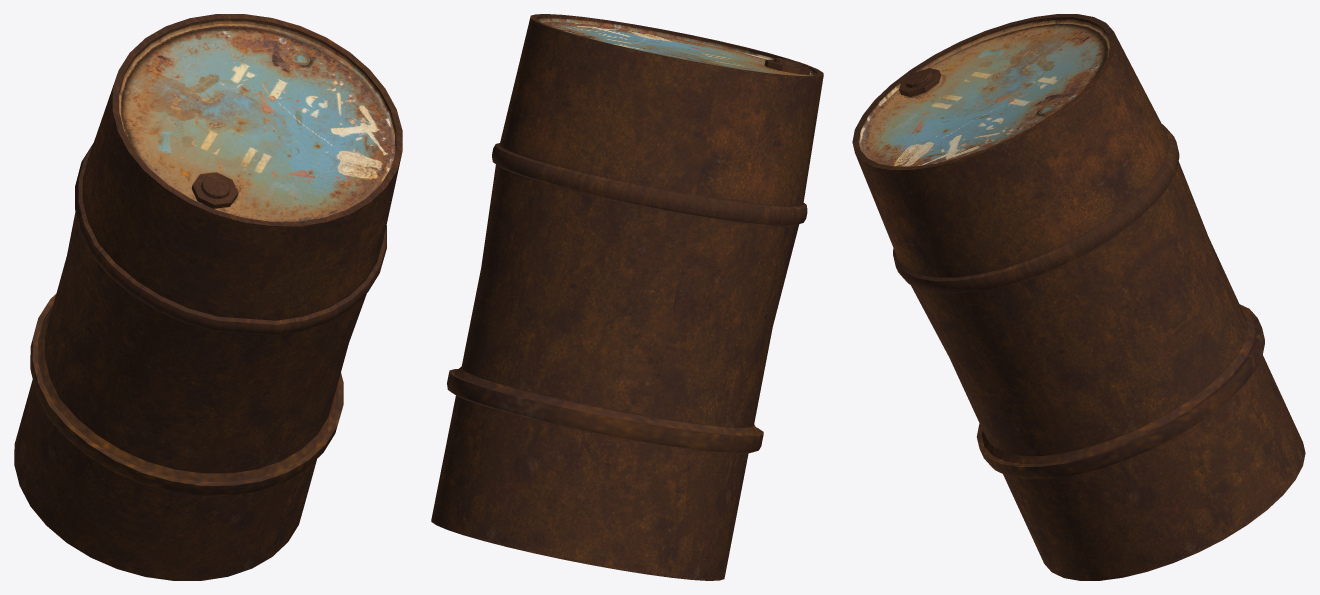
Rendered from BARREL3.fbx.
The picture shows the model from 3 angles, left to right: view 1: azimuth 30°, elevation 25°; view 2: azimuth 150°, elevation 25°; view 3: azimuth 270°, elevation 25°; orthographic projection. The views are drawn at different scales.
Visible parts, largest first — view 1: BARREL; view 2: BARREL; view 3: BARREL.
Boxes of the visible parts, x1,y1,x2,y2 form: BARREL: (14, 14, 402, 580); BARREL: (431, 14, 823, 580); BARREL: (852, 14, 1305, 580).
Bounding box in the file's own units: 197 × 361 × 290.
